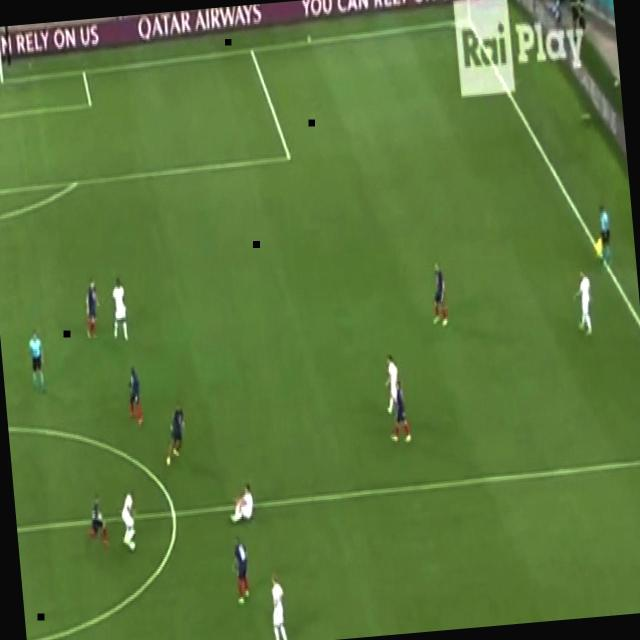ball: (129, 539, 137, 554)
player-white: (160, 402, 190, 466), (385, 378, 413, 446), (570, 267, 596, 339), (228, 534, 253, 606), (82, 492, 111, 552), (265, 568, 289, 640), (426, 258, 450, 330), (25, 328, 49, 399), (82, 275, 105, 343), (109, 276, 131, 344), (123, 364, 146, 429), (226, 481, 256, 527), (117, 488, 139, 548), (594, 203, 614, 269), (382, 354, 402, 416)
